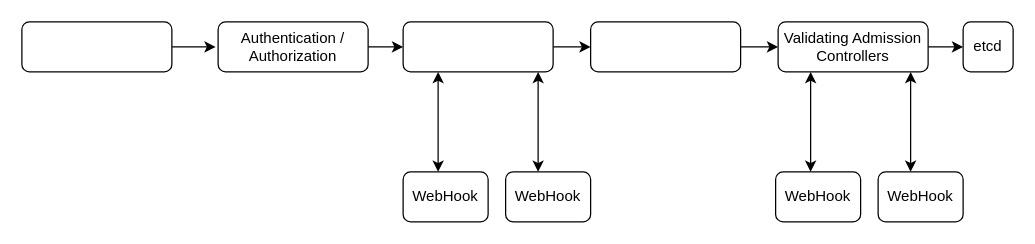
Some shapes in this 1035 by 244 pixel diagram are drawn without their labels. Each missing label, with the centre of its shape:
API HTTP Handler: the point at 96,46
Mutating Admission Controllers: the point at 477,46
Object Schema Validation: the point at 665,46
